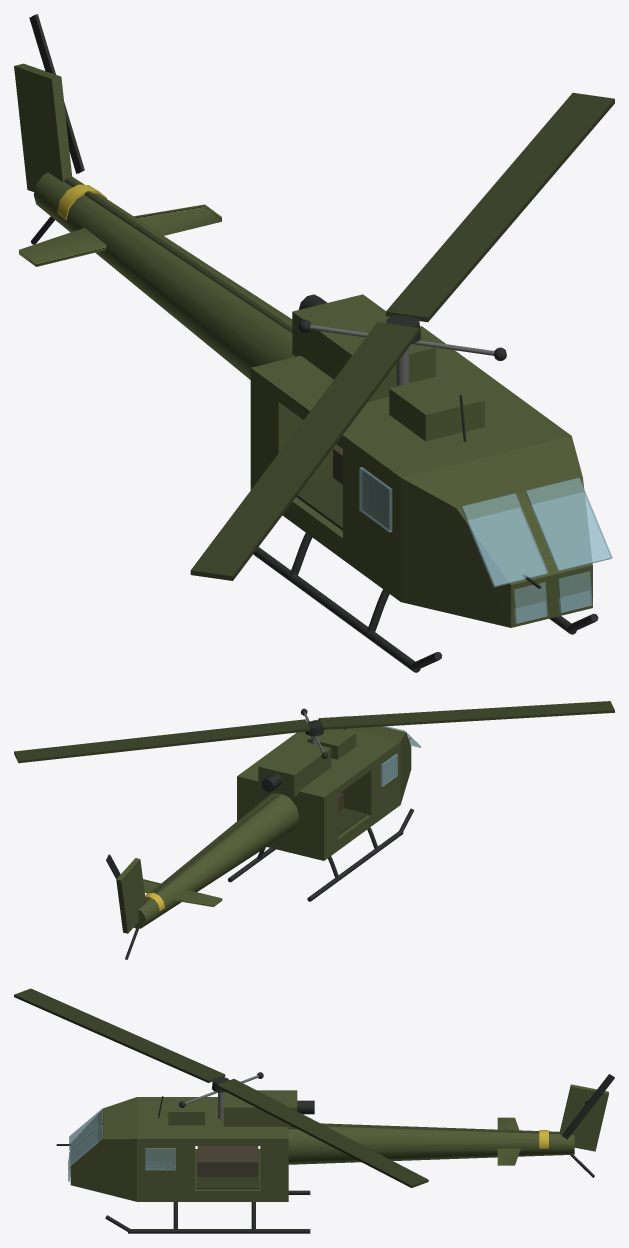
File: uh1-huey.glb
The picture shows the model from 3 angles, top to bottom: view 1: azimuth 30°, elevation 25°; view 2: azimuth 150°, elevation 25°; view 3: azimuth 270°, elevation 25°; orthographic projection. The views are drawn at different scales.
Visible parts, largest first — view 1: Mesh_Nose, Mesh_Cabin, Mesh_TailBoom, Mesh_BladeFwd, Mesh_BladeAft, Mesh_EngineCowl, Mesh_TailFin, Mesh_WindshieldL, Mesh_WindshieldR, Mesh_IntakeFairing, Mesh_SkidR, Mesh_StabilizerRight (+6 smaller); view 2: Mesh_Cabin, Mesh_TailBoom, Mesh_BladeAft, Mesh_BladeFwd, Mesh_EngineCowl, Mesh_TailFin, Mesh_Nose, Mesh_IntakeFairing, Mesh_SkidR, Mesh_ShaftCover, Mesh_StabilizerRight, Mesh_FloorPlate (+1 smaller); view 3: Mesh_Cabin, Mesh_TailBoom, Mesh_Nose, Mesh_BladeAft, Mesh_BladeFwd, Mesh_Bench, Mesh_TailFin, Mesh_EngineCowl, Mesh_IntakeFairing, Mesh_FloorPlate, Mesh_SkidL, Mesh_PilotWindowL (+4 smaller).
Part boxes in pixels (x1,y1,x2,y2): Mesh_Nose: (394, 431, 592, 627); Mesh_Cabin: (250, 326, 564, 596); Mesh_TailBoom: (33, 172, 295, 379); Mesh_BladeFwd: (190, 322, 419, 580); Mesh_BladeAft: (385, 92, 614, 322); Mesh_EngineCowl: (292, 294, 435, 401); Mesh_TailFin: (14, 63, 72, 191); Mesh_WindshieldL: (525, 477, 612, 571); Mesh_WindshieldR: (461, 493, 548, 587); Mesh_IntakeFairing: (389, 374, 484, 441); Mesh_SkidR: (253, 547, 420, 672); Mesh_StabilizerRight: (19, 227, 106, 266); Mesh_Cabin: (237, 731, 397, 860); Mesh_TailBoom: (134, 793, 299, 928); Mesh_BladeAft: (14, 719, 310, 763); Mesh_BladeFwd: (318, 701, 614, 729); Mesh_EngineCowl: (258, 739, 331, 796); Mesh_TailFin: (116, 858, 145, 933); Mesh_Nose: (313, 716, 411, 806); Mesh_IntakeFairing: (307, 729, 356, 759); Mesh_SkidR: (307, 831, 403, 901); Mesh_ShaftCover: (145, 793, 281, 901); Mesh_StabilizerRight: (173, 889, 222, 906); Mesh_FloorPlate: (338, 808, 366, 835); Mesh_Cabin: (141, 1097, 288, 1201); Mesh_TailBoom: (288, 1123, 574, 1164); Mesh_Nose: (70, 1097, 143, 1201); Mesh_BladeAft: (217, 1079, 428, 1187); Mesh_BladeFwd: (14, 988, 225, 1082); Mesh_Bench: (197, 1146, 258, 1176); Mesh_TailFin: (559, 1084, 608, 1151); Mesh_EngineCowl: (223, 1090, 297, 1129); Mesh_IntakeFairing: (168, 1097, 204, 1125); Mesh_FloorPlate: (196, 1149, 259, 1189); Mesh_SkidL: (128, 1229, 310, 1233); Mesh_PilotWindowL: (145, 1148, 175, 1170).
Size of the model in its own units: 10.78 by 3.68 by 13.87.
